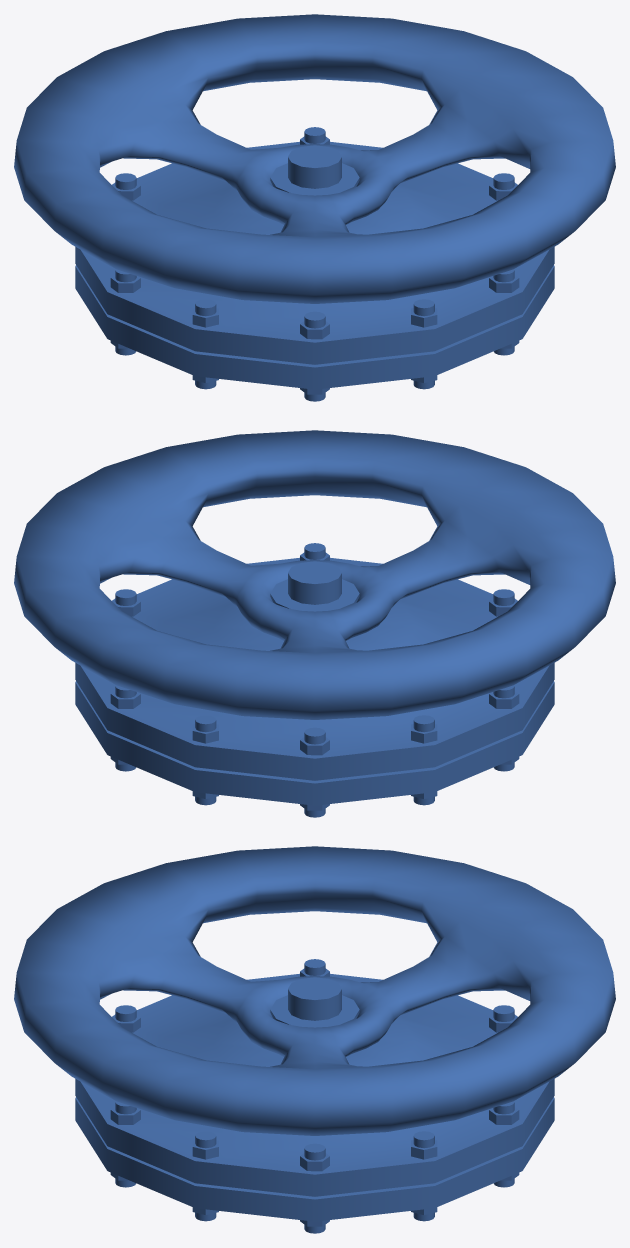
File: SM_Pipe_End_Valve.fbx
The picture shows the model from 3 angles, top to bottom: view 1: azimuth 30°, elevation 25°; view 2: azimuth 150°, elevation 25°; view 3: azimuth 270°, elevation 25°; orthographic projection.
Visible parts, largest first — view 1: SM_Pipe_Thick_Long_Closed_low.001; view 2: SM_Pipe_Thick_Long_Closed_low.001; view 3: SM_Pipe_Thick_Long_Closed_low.001.
Boxes of the visible parts, box(x1,y1,x2,y2) form: SM_Pipe_Thick_Long_Closed_low.001: box(14, 14, 615, 401); SM_Pipe_Thick_Long_Closed_low.001: box(14, 430, 615, 817); SM_Pipe_Thick_Long_Closed_low.001: box(14, 846, 615, 1233).
Bounding box in the file's own units: 36.32 × 10.95 × 36.32.
